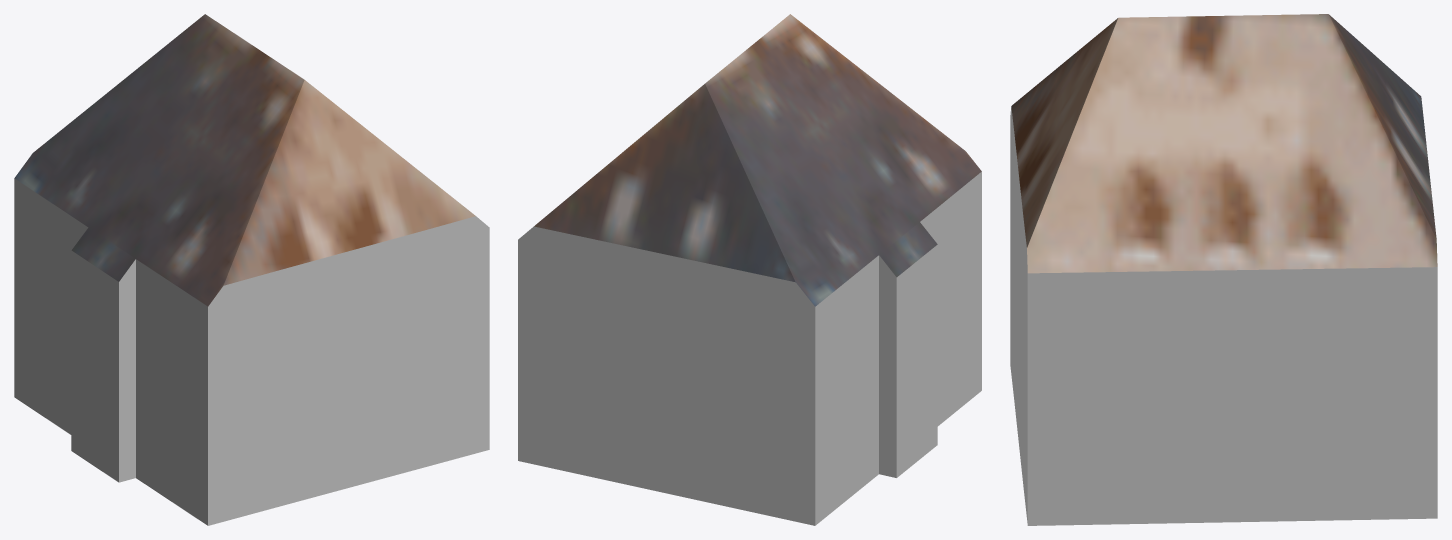
File: DEBW_0010007Txe0.gltf
The picture shows the model from 3 angles, left to right: view 1: azimuth 30°, elevation 25°; view 2: azimuth 150°, elevation 25°; view 3: azimuth 270°, elevation 25°; orthographic projection. The views are drawn at different scales.
Parts seen in each view (by area): view 1: Z_UP; view 2: Z_UP; view 3: Z_UP.
Boxes of the visible parts, <box> form: Z_UP: <box>14,14,489,525</box>; Z_UP: <box>518,14,981,525</box>; Z_UP: <box>1010,14,1437,525</box>.
Bounding box in the file's own units: 11.62 × 13.27 × 12.01.
Materials: 2 (1 with a texture image).
